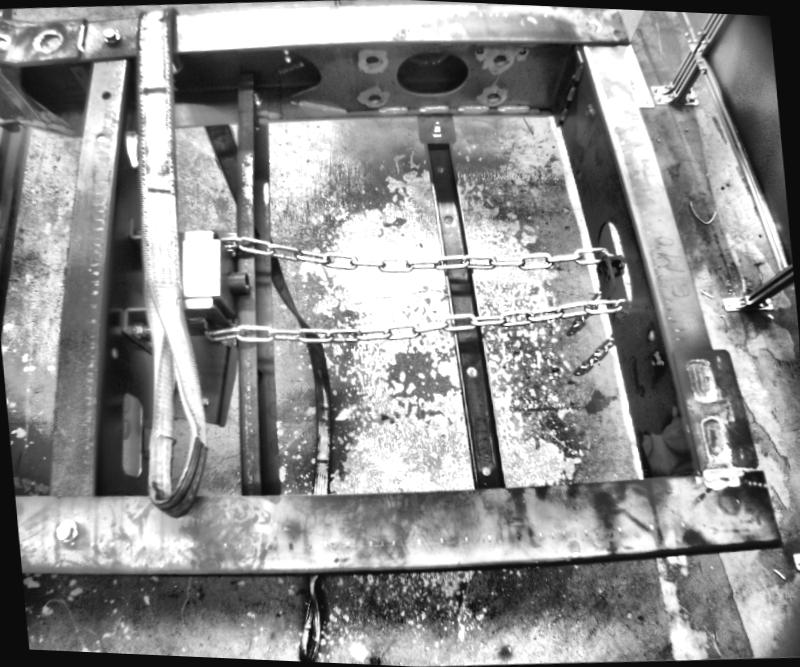bolt: (101, 26, 122, 50), (58, 520, 80, 542), (133, 324, 157, 342), (646, 350, 665, 371), (245, 90, 264, 107), (430, 120, 443, 142), (586, 104, 596, 120)
bracket: (592, 252, 618, 302)
hole: (392, 46, 472, 99), (116, 386, 152, 486), (362, 52, 382, 70), (369, 93, 385, 108), (491, 53, 507, 67), (486, 91, 501, 104), (465, 366, 478, 380), (109, 346, 120, 362), (441, 212, 453, 226), (644, 329, 656, 342), (94, 132, 106, 144), (100, 88, 111, 101), (481, 467, 492, 480), (436, 164, 445, 173)
welding: (570, 65, 584, 84), (554, 108, 568, 126), (562, 92, 577, 106)
